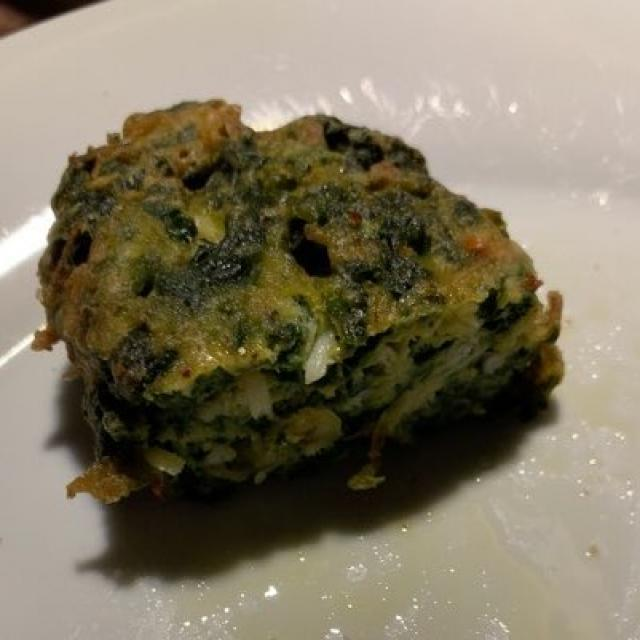mixed-vegetables: (44, 105, 559, 495)
